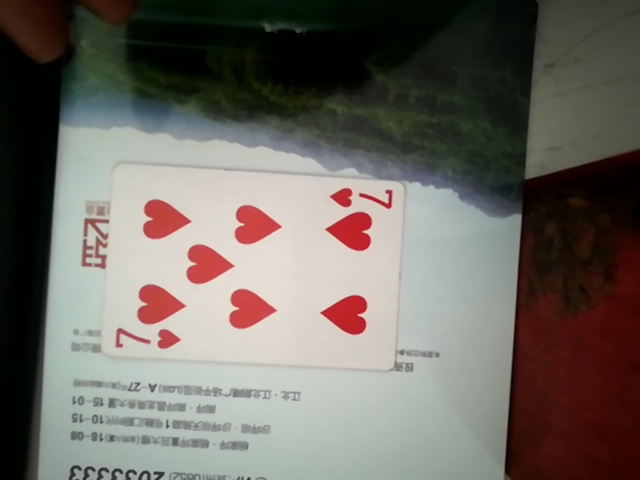hx 7: (97, 169, 404, 369)
